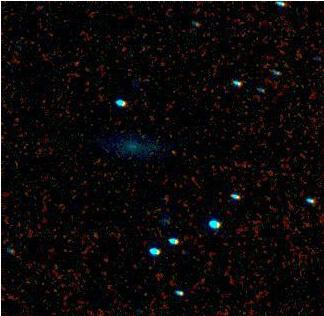star: (160, 138, 190, 168)
